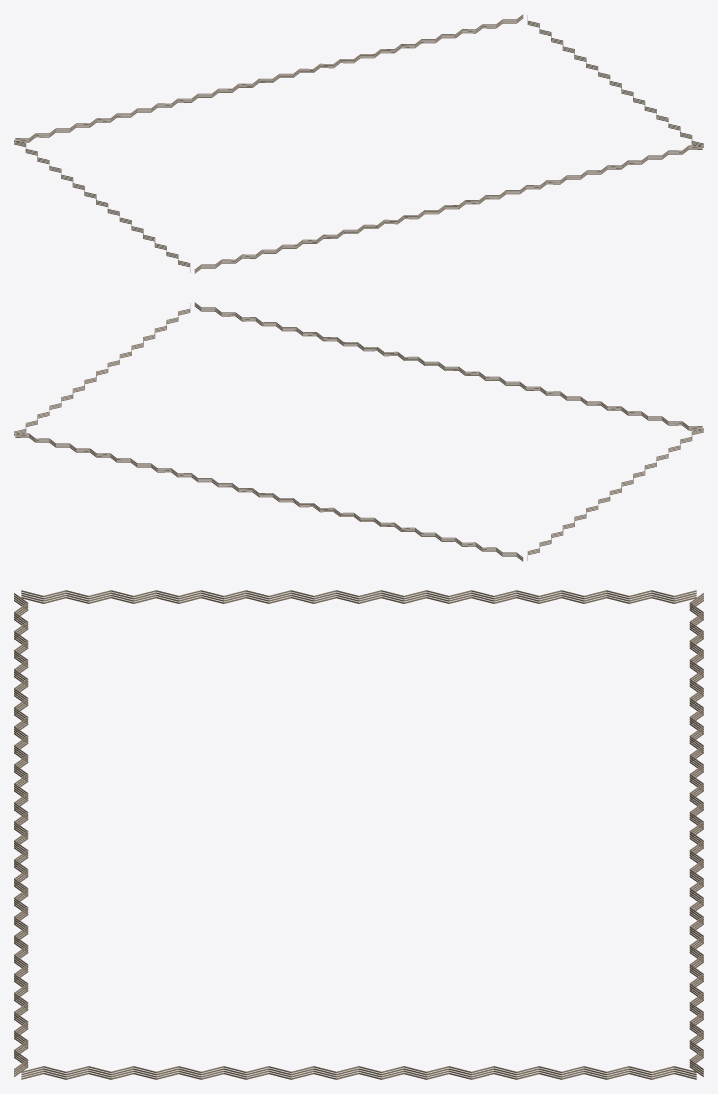
File: lees_place_field_fence_1812__lees_place_1812.glb
3 views of the same model, one above another, from view 1: azimuth 30°, elevation 25°; view 2: azimuth 150°, elevation 25°; view 3: azimuth 270°, elevation 25° (orthographic). The views are drawn at different scales.
Parts seen in each view (by area): view 1: lees_place_field_fence_1812__lees_place_1812; view 2: lees_place_field_fence_1812__lees_place_1812; view 3: lees_place_field_fence_1812__lees_place_1812.
Part boxes in pixels (x1,y1,x2,y2): lees_place_field_fence_1812__lees_place_1812: (14,14,703,273); lees_place_field_fence_1812__lees_place_1812: (14,302,703,561); lees_place_field_fence_1812__lees_place_1812: (14,590,703,1079).
Size of the model in its own units: 152 by 1.17 by 91.91.
